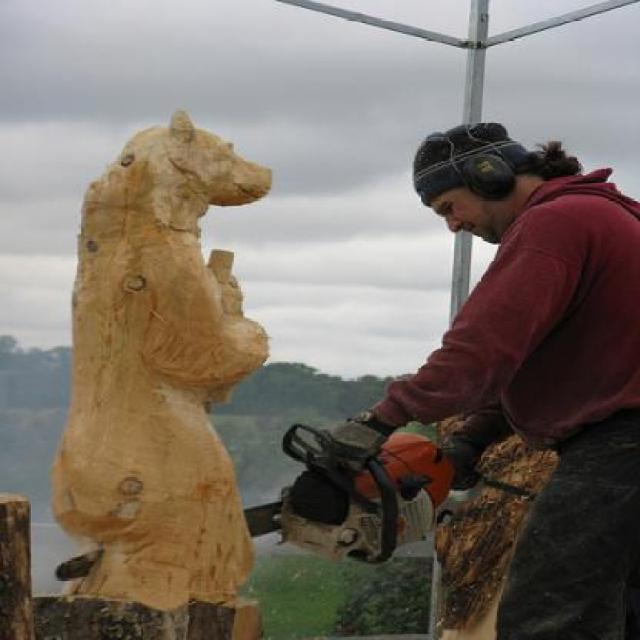Chainsaw: (240, 419, 462, 566)
